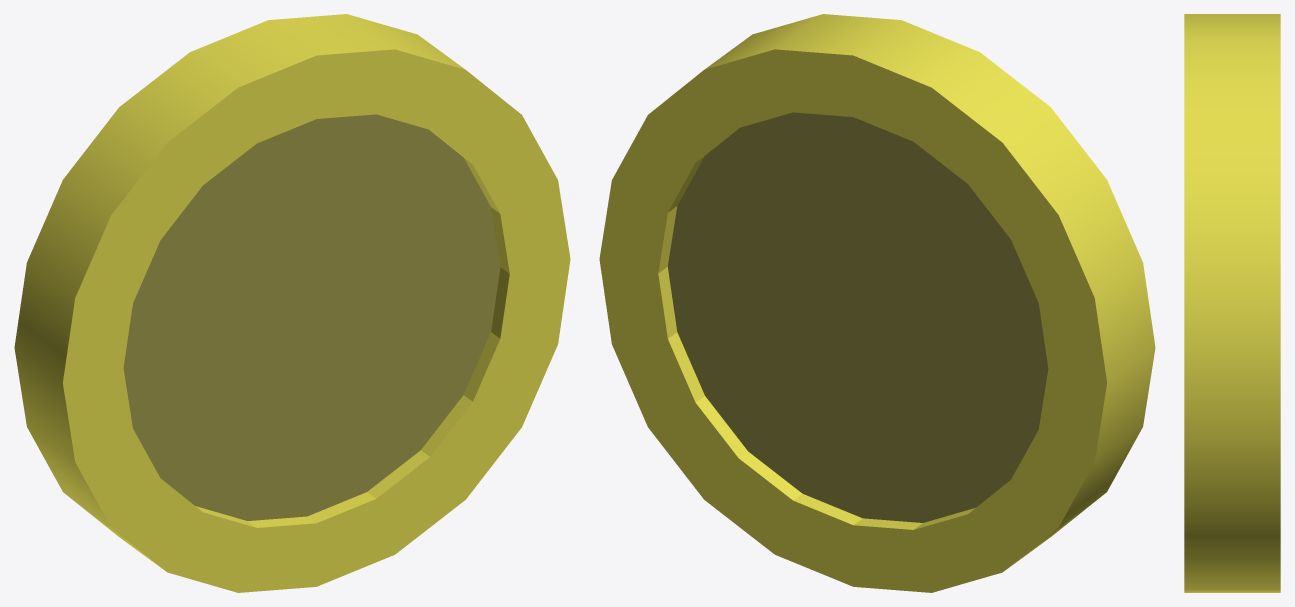
The model's file is Coin.fbx.
The picture shows the model from 3 angles, left to right: view 1: azimuth 30°, elevation 25°; view 2: azimuth 150°, elevation 25°; view 3: azimuth 270°, elevation 25°; orthographic projection.
Parts seen in each view (by area): view 1: pCylinder1; view 2: pCylinder1; view 3: pCylinder1.
Part boxes in pixels (<box>): pCylinder1: <box>14,14,570,592</box>; pCylinder1: <box>599,14,1155,592</box>; pCylinder1: <box>1184,14,1280,592</box>.
Size of the model in its own units: 2 by 2 by 0.3298.
